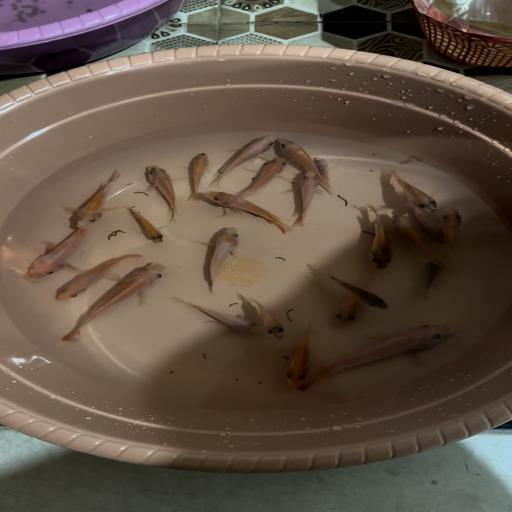nila: (313, 320, 453, 388), (67, 261, 171, 347), (52, 248, 138, 307), (202, 187, 300, 235), (20, 223, 95, 280), (60, 171, 129, 232), (168, 296, 265, 338), (208, 129, 275, 188), (196, 223, 248, 291), (136, 162, 192, 221), (275, 137, 342, 185), (385, 209, 445, 259), (354, 203, 397, 272), (276, 326, 321, 390), (325, 271, 396, 310), (330, 272, 379, 327), (230, 156, 288, 202), (286, 170, 334, 225), (386, 172, 444, 212), (122, 202, 174, 246), (404, 199, 450, 242), (247, 297, 290, 341), (183, 151, 217, 201), (416, 256, 448, 300), (438, 206, 463, 252), (310, 156, 340, 185)
